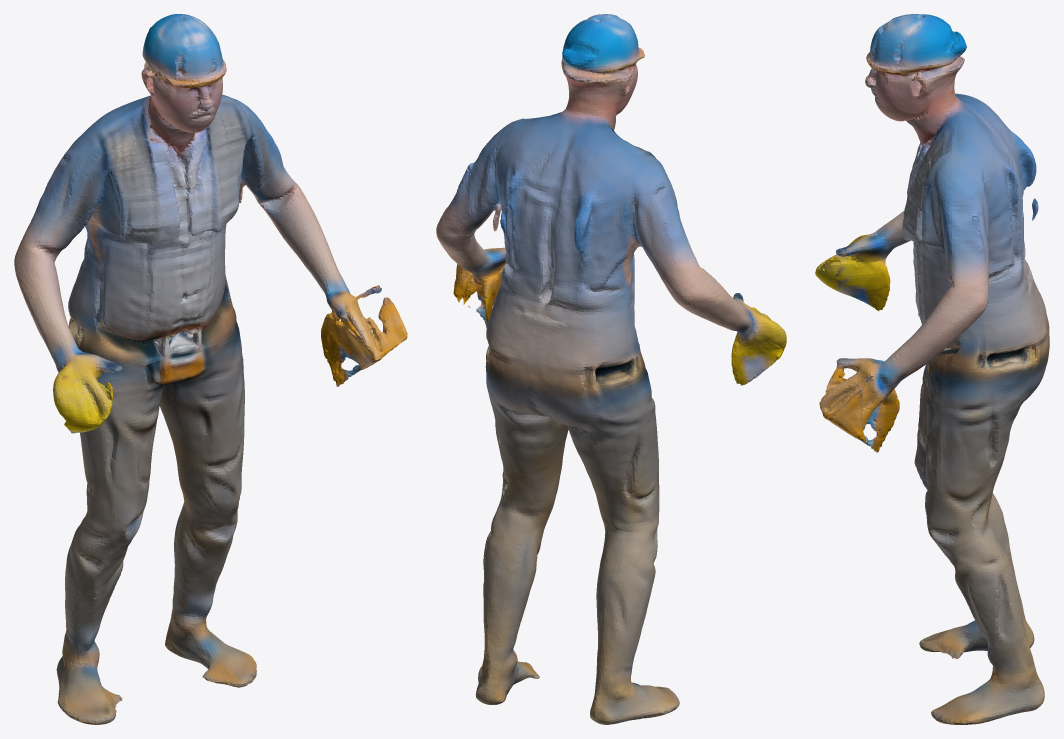
Rendered from constructionmanager.glb.
The picture shows the model from 3 angles, left to right: view 1: azimuth 30°, elevation 25°; view 2: azimuth 150°, elevation 25°; view 3: azimuth 270°, elevation 25°; orthographic projection. The views are drawn at different scales.
Bounding box in the file's own units: 0.8653 × 1.67 × 0.529.
